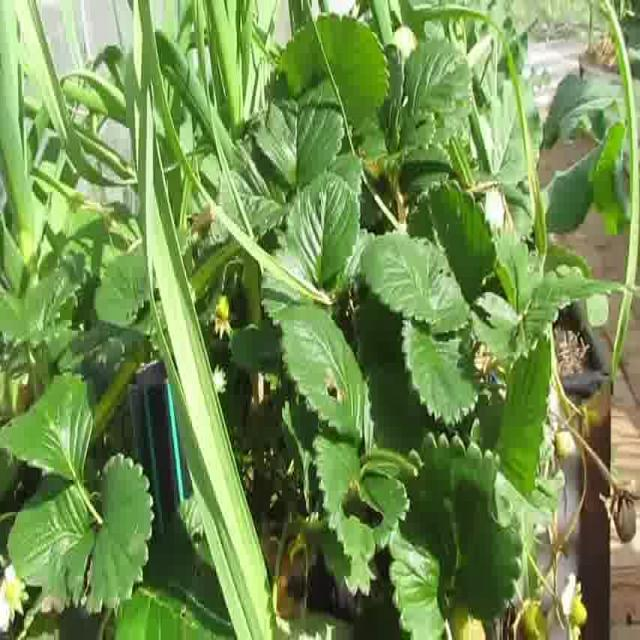Moho gris: (599, 474, 639, 554)
